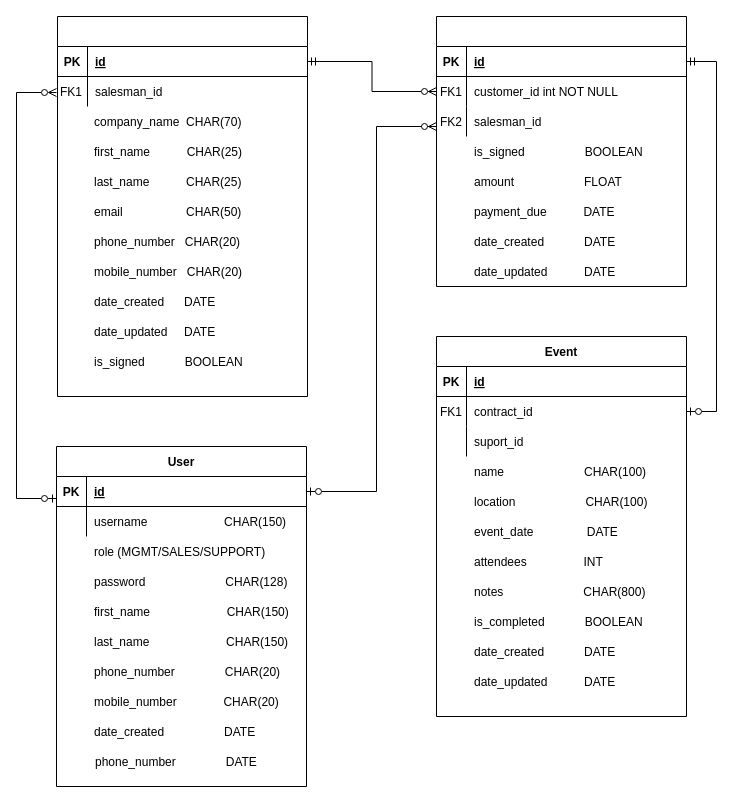
Some shapes in this 733 by 803 pixel diagram are drawn without their labels. The box of each missing label's shape, as (x1, y1, x2, y2) in pixels:
Contract: (436, 16, 686, 286)
Customer: (56, 16, 308, 396)
